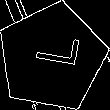L_W: (24, 38, 80, 77)
